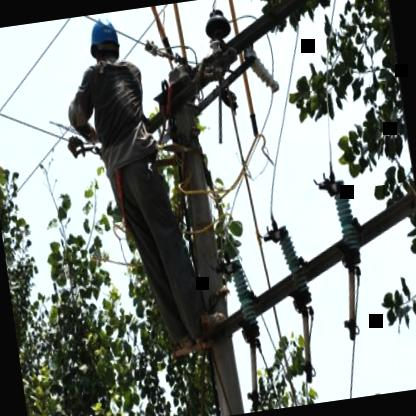helmet: (82, 12, 122, 70)
